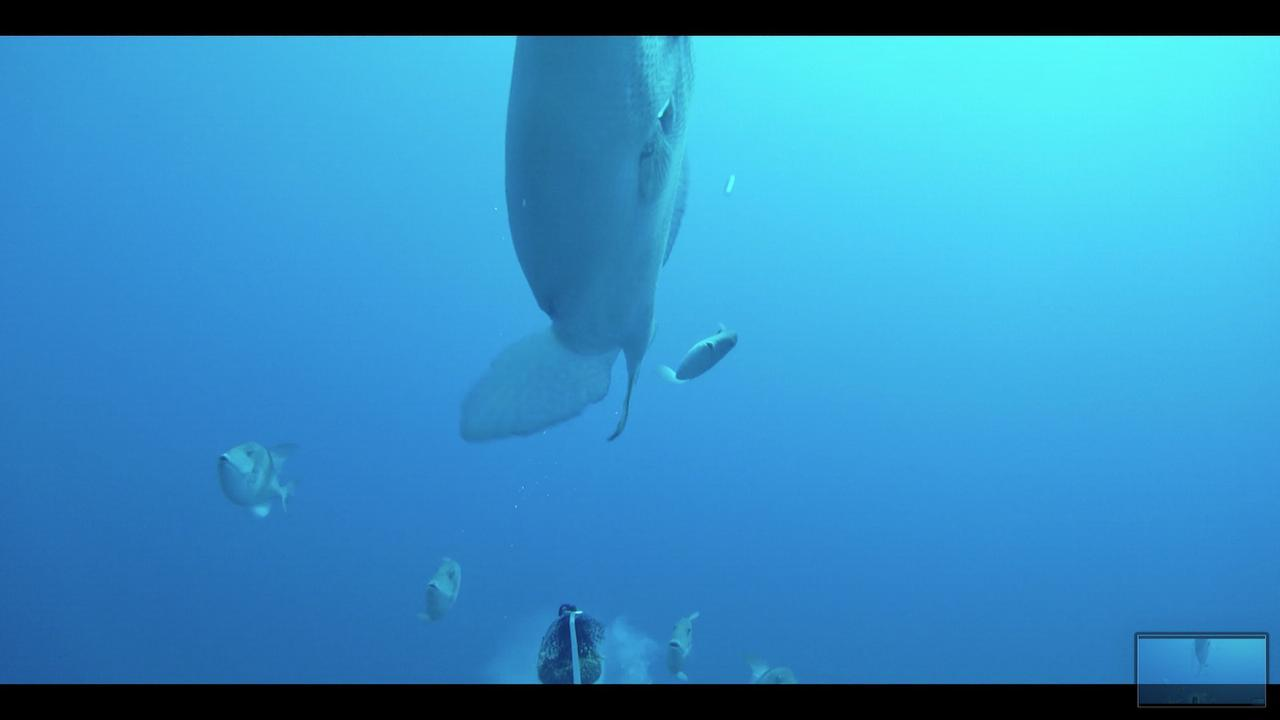balistes: (445, 38, 703, 454), (203, 433, 311, 525), (655, 312, 753, 400), (650, 595, 713, 685), (404, 551, 470, 626)
